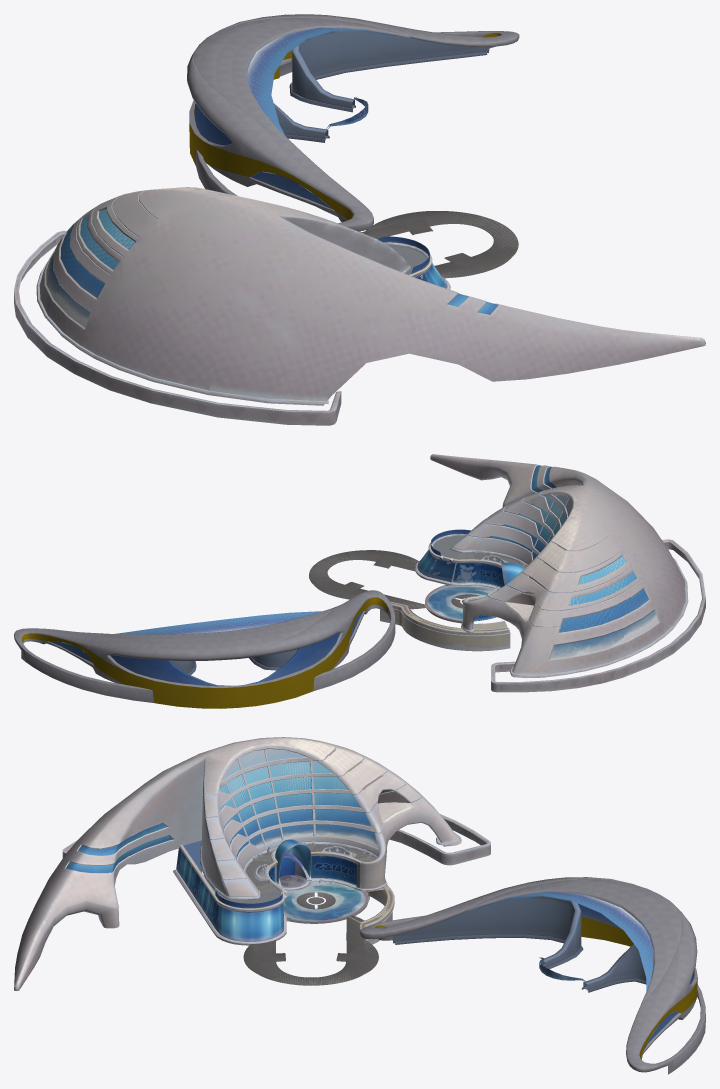
File: pref_sm_beach_bk_winter_pointmol_rightbuild_lv1.fbx
3 views of the same model, one above another, from view 1: azimuth 30°, elevation 25°; view 2: azimuth 150°, elevation 25°; view 3: azimuth 270°, elevation 25° (orthographic). The views are drawn at different scales.
Parts seen in each view (by area): view 1: sm_beach_bk_winter_pointmol_rightbuild01a_lv1, sm_beach_bk_winter_pointmol_rightbuild02a_lv1, sm_beach_bk_winter_pointmol_rightbuild02b_lv1, sm_beach_winter_pointmol_techborn02_mirror_lv1, sm_beach_bk_winter_pointmol_rightbuild02c_lv1, sm_beach_bk_winter_pointmol_rightbuild01b_lv1; view 2: sm_beach_bk_winter_pointmol_rightbuild01a_lv1, sm_beach_bk_winter_pointmol_rightbuild02a_lv1, sm_beach_bk_winter_pointmol_rightbuild01b_lv1, sm_beach_bk_winter_pointmol_rightbuild02b_lv1, sm_beach_bk_winter_pointmol_rightbuild02c_lv1, sm_beach_winter_pointmol_techborn02_mirror_lv1, sm_beach_bk_winter_pointmol_rightbuild01d_lv1, sm_beach_bk_winter_pointmol_rightbuild01e_lv1, sm_beach_bk_winter_pointmol_rightbuild01c_lv1; view 3: sm_beach_bk_winter_pointmol_rightbuild01a_lv1, sm_beach_bk_winter_pointmol_rightbuild01b_lv1, sm_beach_bk_winter_pointmol_rightbuild02a_lv1, sm_beach_bk_winter_pointmol_rightbuild02b_lv1, sm_beach_winter_pointmol_techborn02_mirror_lv1, sm_beach_bk_winter_pointmol_rightbuild02c_lv1, sm_beach_bk_winter_pointmol_rightbuild01e_lv1, sm_beach_bk_winter_pointmol_rightbuild01c_lv1, sm_beach_bk_winter_pointmol_rightbuild01d_lv1.
Part boxes in pixels (x1,y1,x2,y2): sm_beach_bk_winter_pointmol_rightbuild01a_lv1: (14, 187, 705, 425); sm_beach_bk_winter_pointmol_rightbuild02a_lv1: (187, 14, 519, 231); sm_beach_bk_winter_pointmol_rightbuild02b_lv1: (189, 30, 501, 219); sm_beach_winter_pointmol_techborn02_mirror_lv1: (362, 211, 518, 278); sm_beach_bk_winter_pointmol_rightbuild02c_lv1: (194, 27, 399, 209); sm_beach_bk_winter_pointmol_rightbuild01b_lv1: (46, 209, 497, 327); sm_beach_bk_winter_pointmol_rightbuild01a_lv1: (415, 454, 705, 692); sm_beach_bk_winter_pointmol_rightbuild02a_lv1: (14, 590, 395, 702); sm_beach_bk_winter_pointmol_rightbuild01b_lv1: (417, 465, 658, 658); sm_beach_bk_winter_pointmol_rightbuild02b_lv1: (21, 597, 388, 708); sm_beach_bk_winter_pointmol_rightbuild02c_lv1: (49, 611, 362, 686); sm_beach_winter_pointmol_techborn02_mirror_lv1: (309, 535, 525, 609); sm_beach_bk_winter_pointmol_rightbuild01d_lv1: (380, 601, 510, 651); sm_beach_bk_winter_pointmol_rightbuild01e_lv1: (427, 585, 497, 620); sm_beach_bk_winter_pointmol_rightbuild01c_lv1: (453, 563, 504, 621); sm_beach_bk_winter_pointmol_rightbuild01a_lv1: (14, 737, 490, 990); sm_beach_bk_winter_pointmol_rightbuild01b_lv1: (65, 749, 378, 941); sm_beach_bk_winter_pointmol_rightbuild02a_lv1: (360, 877, 705, 1074); sm_beach_bk_winter_pointmol_rightbuild02b_lv1: (375, 896, 697, 1057); sm_beach_winter_pointmol_techborn02_mirror_lv1: (208, 844, 378, 985); sm_beach_bk_winter_pointmol_rightbuild02c_lv1: (479, 891, 694, 1047); sm_beach_bk_winter_pointmol_rightbuild01e_lv1: (283, 881, 365, 920); sm_beach_bk_winter_pointmol_rightbuild01c_lv1: (268, 856, 357, 885); sm_beach_bk_winter_pointmol_rightbuild01d_lv1: (348, 885, 394, 944).
Size of the model in its own units: 85.69 by 19.32 by 90.3.
